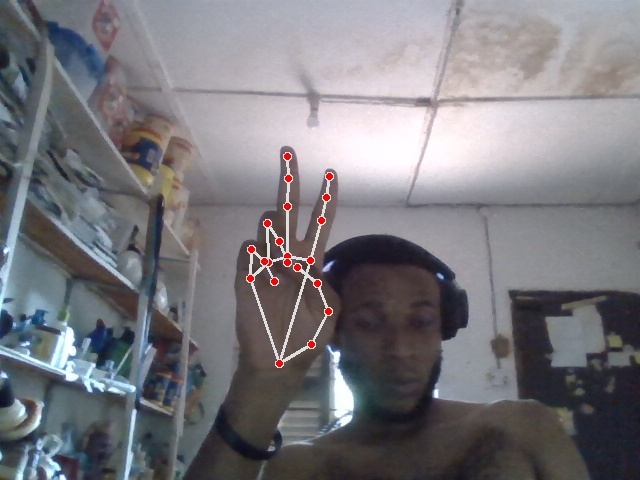peace: (235, 146, 342, 389)
